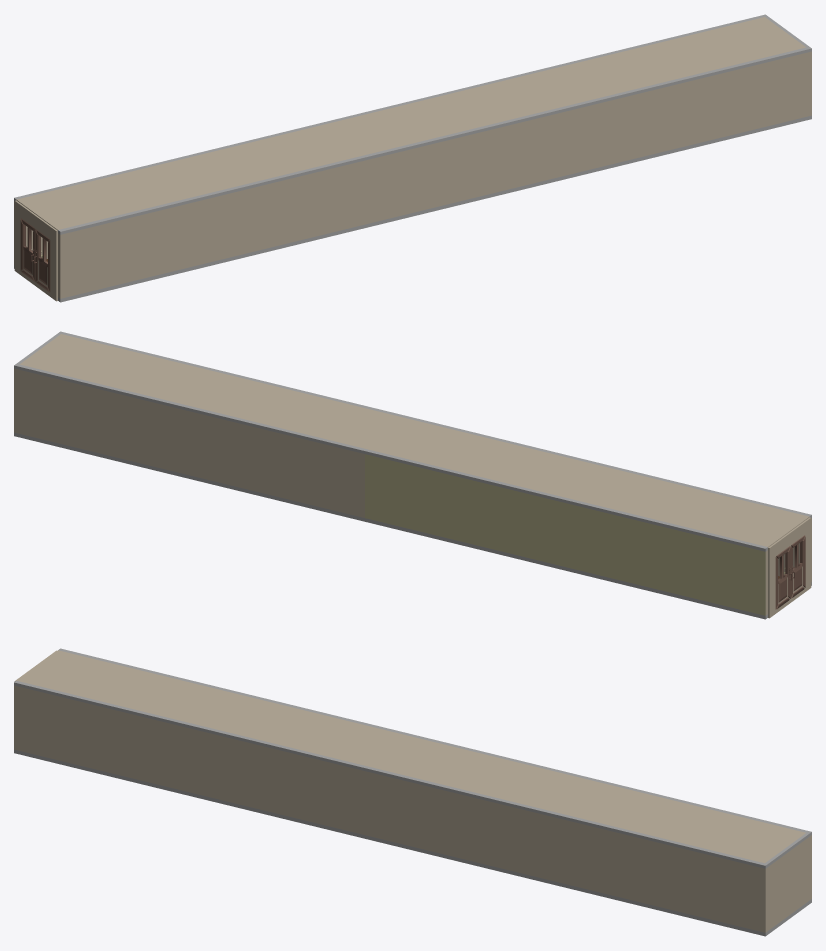
File: hallway 6.fbx
The picture shows the model from 3 angles, top to bottom: view 1: azimuth 30°, elevation 25°; view 2: azimuth 150°, elevation 25°; view 3: azimuth 330°, elevation 25°; orthographic projection.
Parts seen in each view (by area): view 1: Hallway, wall2, doors; view 2: Hallway, wall2, doors; view 3: Hallway.
Boxes of the visible parts, <box> form: Hallway: <box>14,14,811,302</box>; wall2: <box>14,200,57,301</box>; doors: <box>20,218,50,292</box>; Hallway: <box>14,331,811,619</box>; wall2: <box>768,517,811,618</box>; doors: <box>775,535,805,609</box>; Hallway: <box>14,648,811,936</box>.
Bounding box in the file's own units: 22.41 × 2.01 × 2.38.
